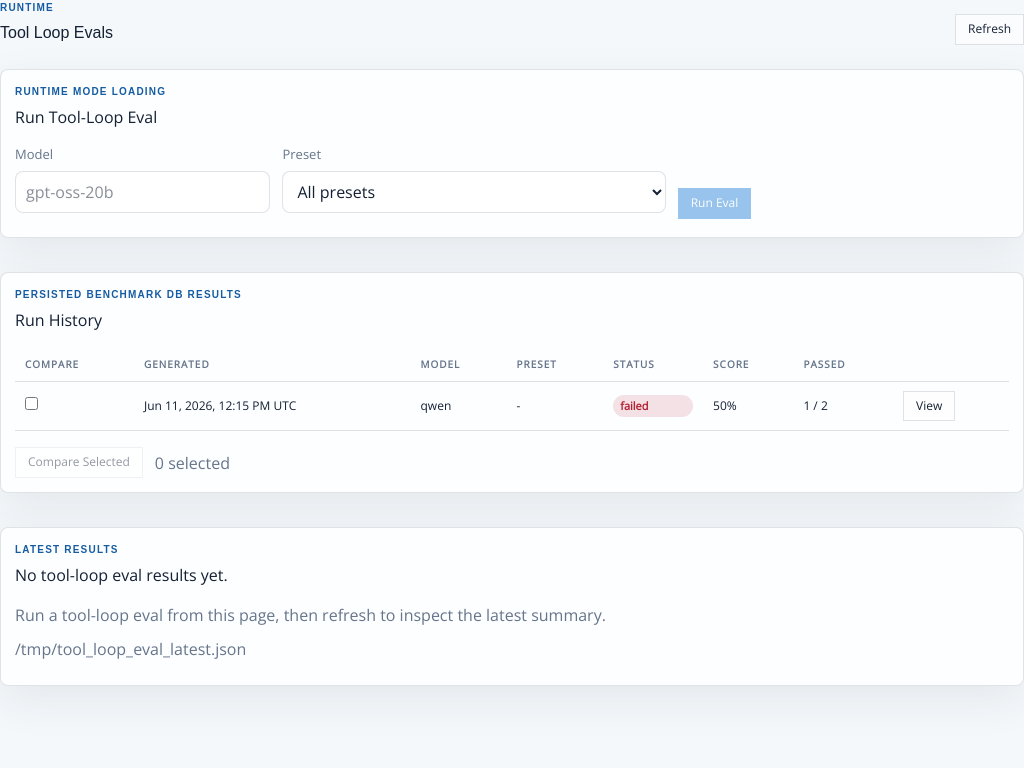
Scenario: loads persisted run detail from the history table
The image size is (1024, 768).
Click the button with aria-label "View run qwen". click: (929, 406)
box: [903, 390, 955, 421]
(page scrolled)
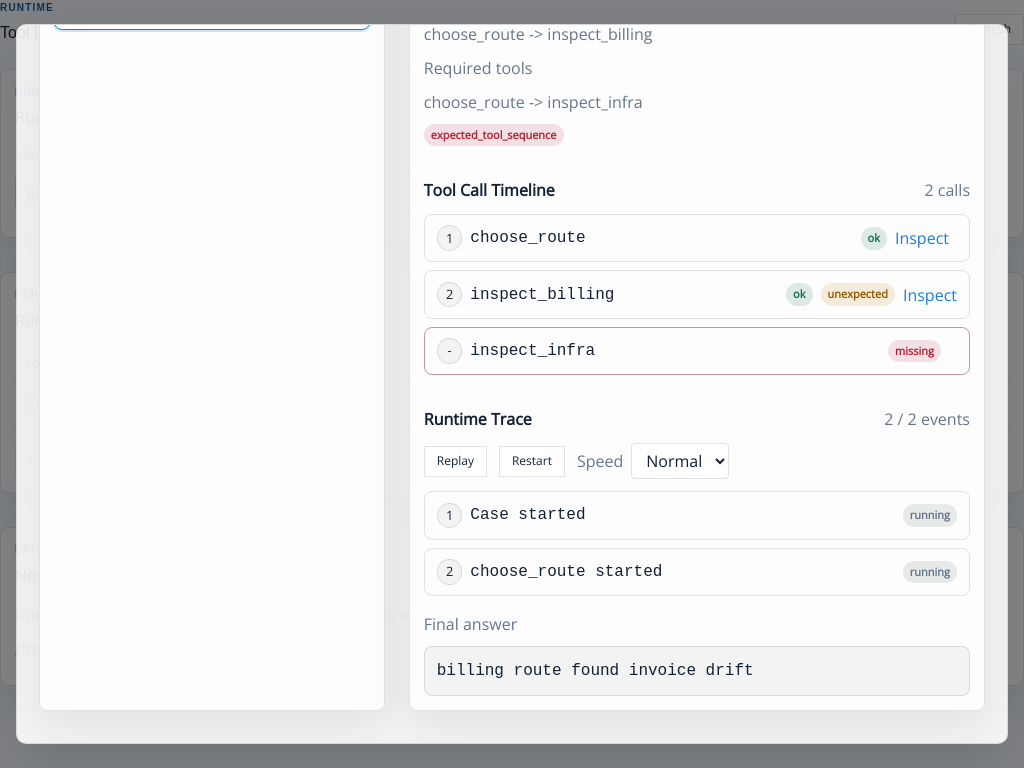
Expected: the text "billing route found invoice drift" is shown, [424, 646, 970, 696]
Expected: the element named "Runtime trace replay" is shown, [424, 391, 970, 596]
Expected: the text "2 / 2 events" is shown, [884, 407, 970, 431]
Click the button "Replay". click: (455, 461)
box: [424, 446, 487, 477]
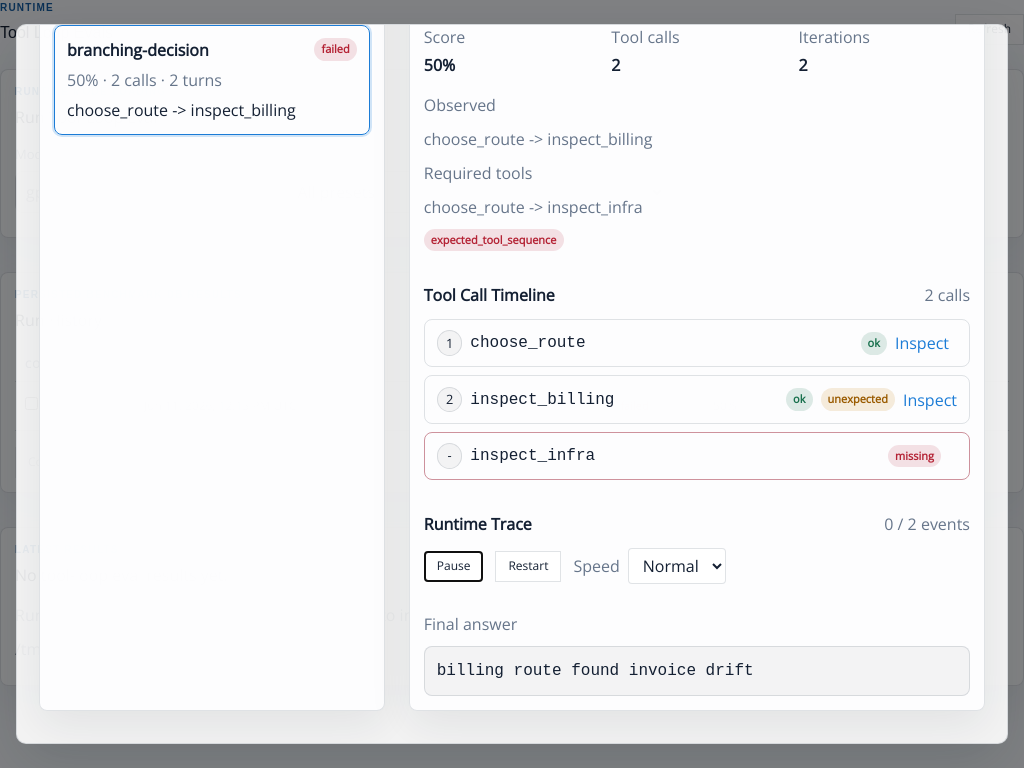
Expected: the text "0 / 2 events" is shown, [884, 512, 970, 536]
